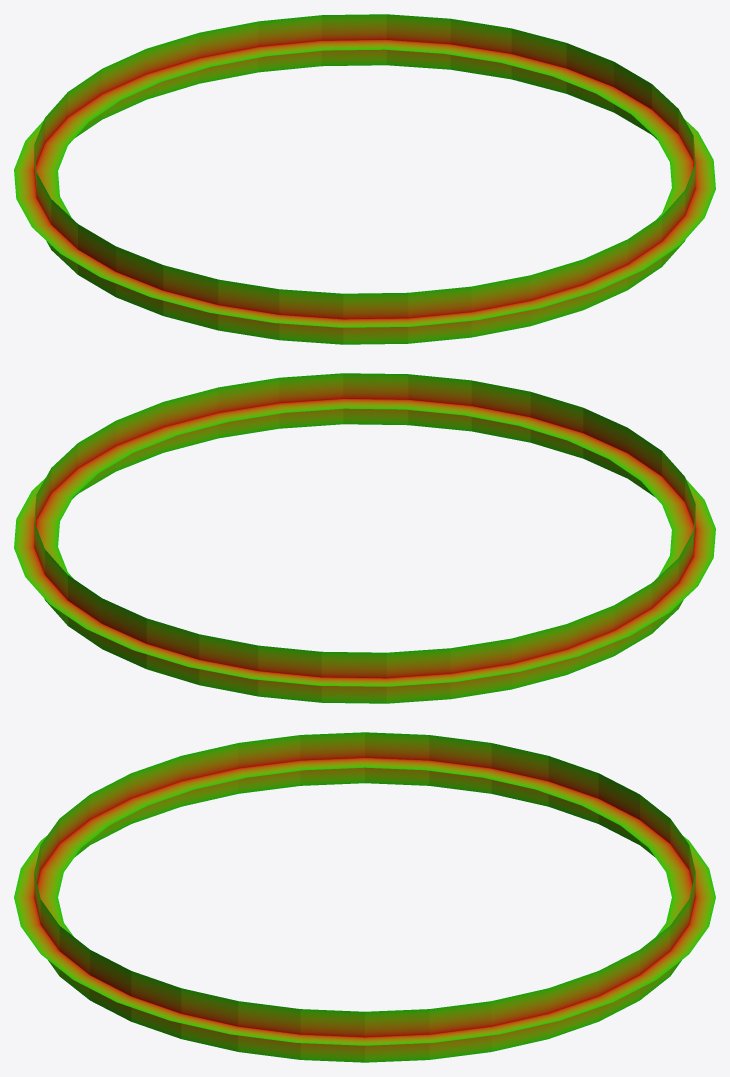
File: SM_DivineLaserShockWave_01.FBX
3 renders of one model, top to bottom at view 1: azimuth 30°, elevation 25°; view 2: azimuth 150°, elevation 25°; view 3: azimuth 270°, elevation 25°, orthographic.
Parts seen in each view (by area): view 1: SM_DivineLaserShockWave_01; view 2: SM_DivineLaserShockWave_01; view 3: SM_DivineLaserShockWave_01.
Boxes of the visible parts, x1,y1,x2,y2 form: SM_DivineLaserShockWave_01: [14, 14, 715, 344]; SM_DivineLaserShockWave_01: [14, 373, 715, 703]; SM_DivineLaserShockWave_01: [14, 732, 715, 1062].
Size of the model in its own units: 69.45 by 69.45 by 5.56.
